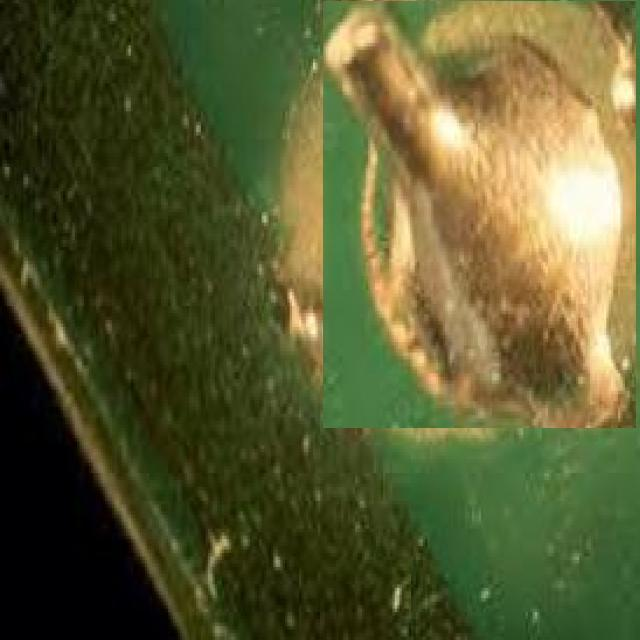slug: (322, 0, 636, 428)
